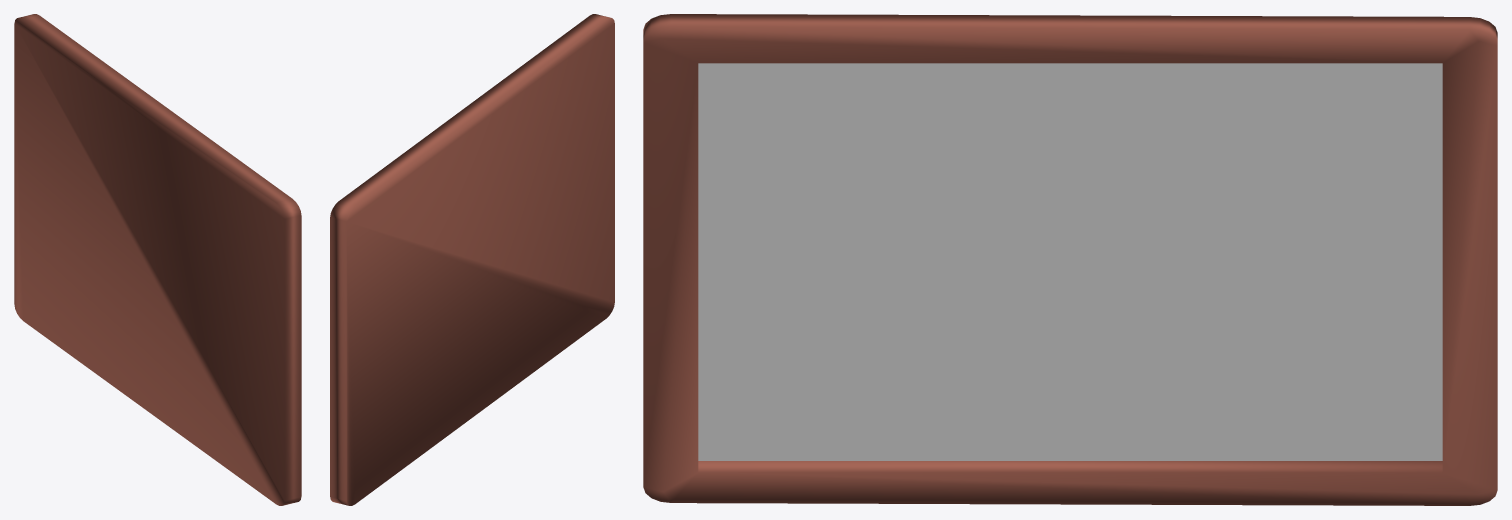
The model's file is cerceve.fbx.
3 renders of one model, left to right at view 1: azimuth 30°, elevation 25°; view 2: azimuth 150°, elevation 25°; view 3: azimuth 270°, elevation 25°, orthographic. The views are drawn at different scales.
Parts seen in each view (by area): view 1: Plane.001; view 2: Plane.001; view 3: Plane.001.
Part boxes in pixels (x1=…): Plane.001: x1=14, y1=14, x2=301, y2=505; Plane.001: x1=330, y1=14, x2=614, y2=505; Plane.001: x1=643, y1=14, x2=1497, y2=505.
Bounding box in the file's own units: 17.29 × 301 × 487.
